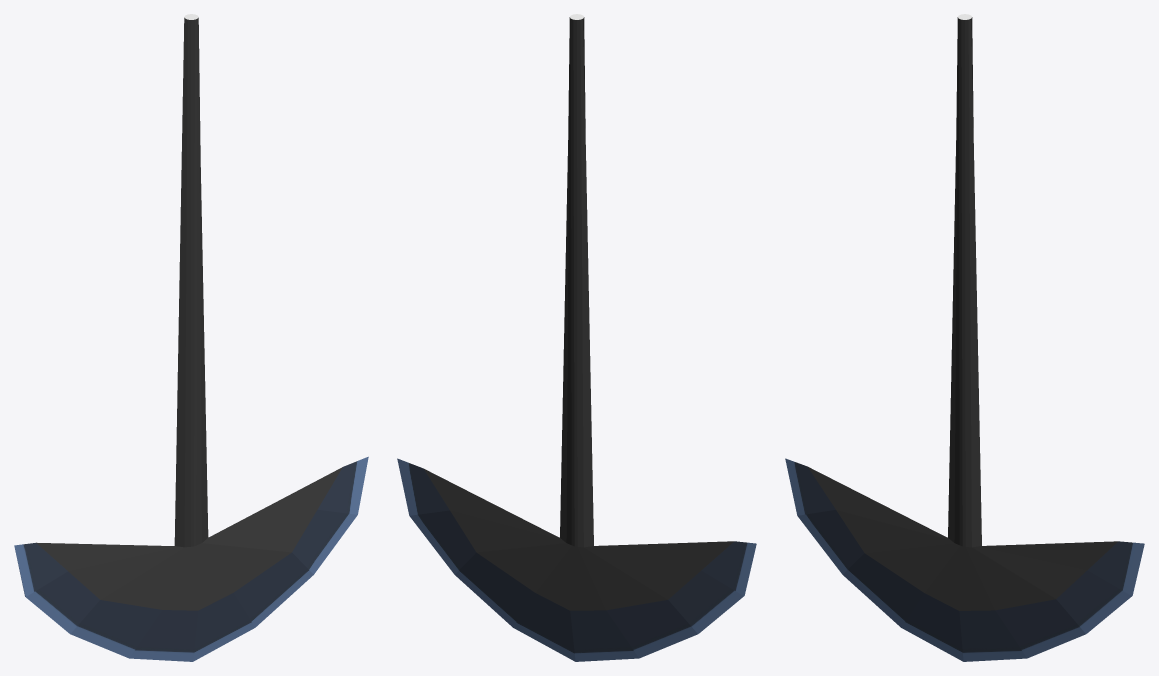
Rendered from 陷阱大斧.fbx.
The picture shows the model from 3 angles, left to right: view 1: azimuth 30°, elevation 25°; view 2: azimuth 150°, elevation 25°; view 3: azimuth 330°, elevation 25°; orthographic projection.
Parts seen in each view (by area): view 1: 大斧; view 2: 大斧; view 3: 大斧.
Part boxes in pixels (x1,y1,x2,y2): 大斧: (14, 14, 368, 661); 大斧: (397, 14, 756, 661); 大斧: (785, 14, 1144, 661).
Size of the model in its own units: 464 by 27.93 by 799.
1 material, 1 textured.
